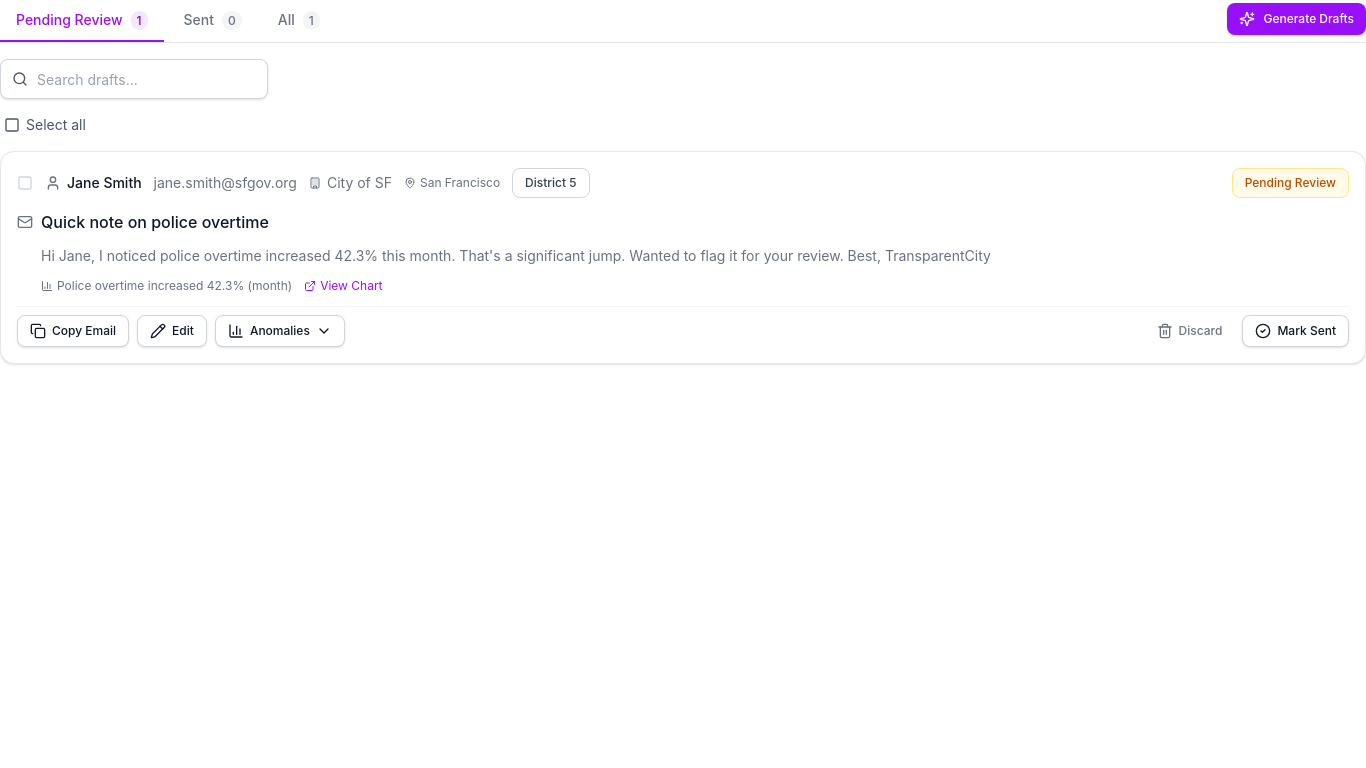
Test: ReviewAndSend › opens edit dialog and populates subject/body from the draft
Click the button "Edit" at (172, 331), box x1=137 y1=315 x2=207 y2=347
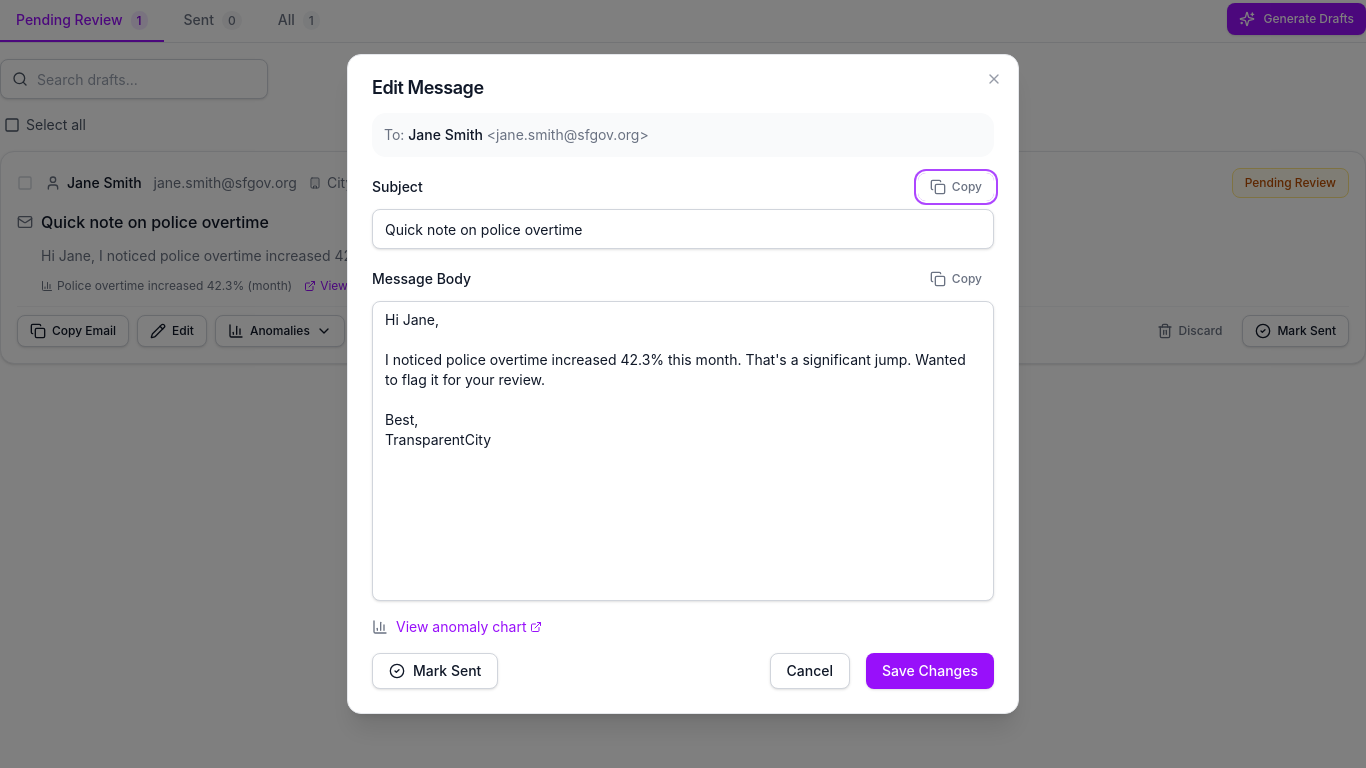
Expected: the heading "Edit Message" is shown, x1=372 y1=77 x2=484 y2=98
Expected: the field showing "Quick note on police overtime" is shown, x1=372 y1=209 x2=994 y2=249
